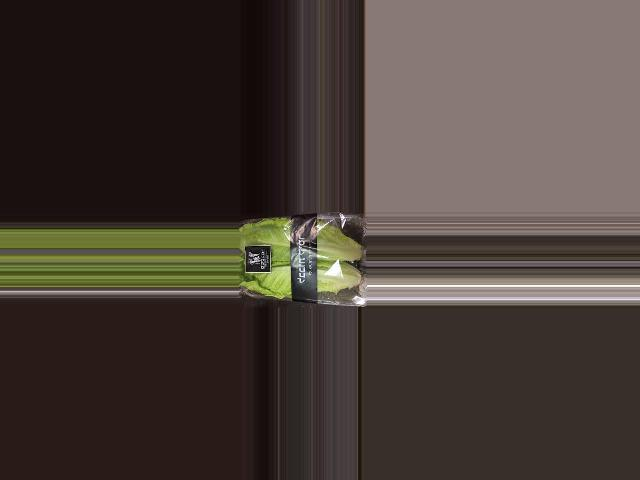lettuce: (240, 219, 367, 306)
